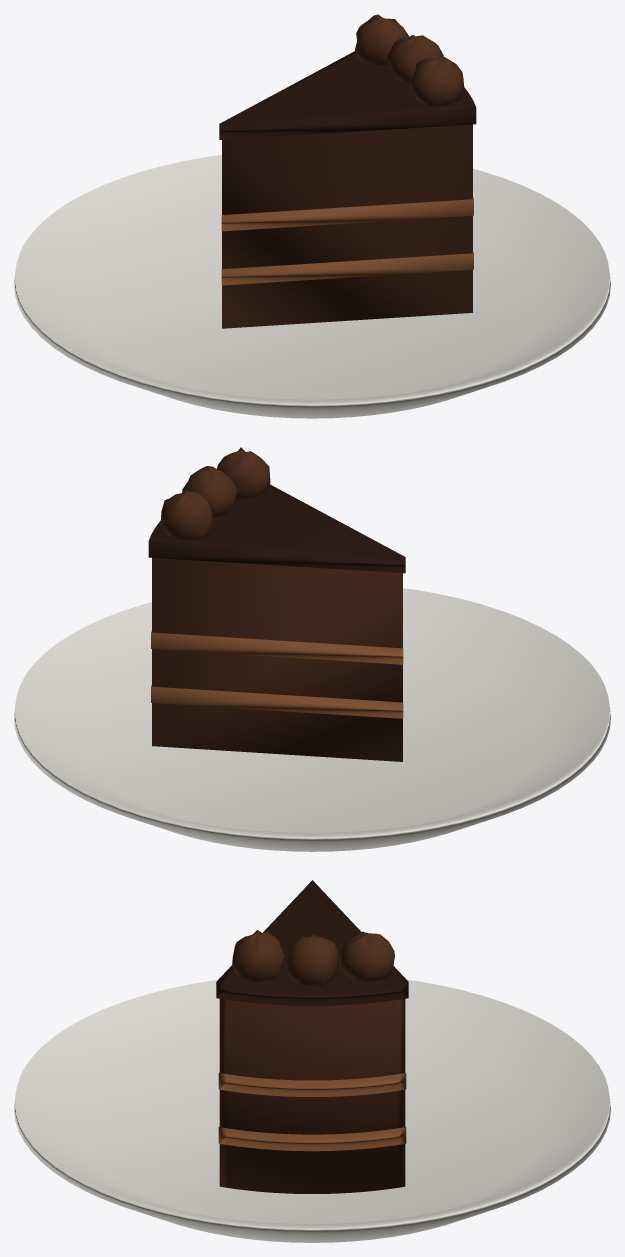
File: bolo-trufado-de-chocolate.glb
3 renders of one model, top to bottom at view 1: azimuth 30°, elevation 25°; view 2: azimuth 150°, elevation 25°; view 3: azimuth 270°, elevation 25°, orthographic.
Visible parts, largest first — view 1: bolo-trufado-de-chocolate; view 2: bolo-trufado-de-chocolate; view 3: bolo-trufado-de-chocolate.
Boxes of the visible parts, <box> form: bolo-trufado-de-chocolate: <box>14,14,610,418</box>; bolo-trufado-de-chocolate: <box>14,447,610,851</box>; bolo-trufado-de-chocolate: <box>14,880,610,1242</box>.
Bounding box in the file's own units: 0.2 × 0.1049 × 0.2.
